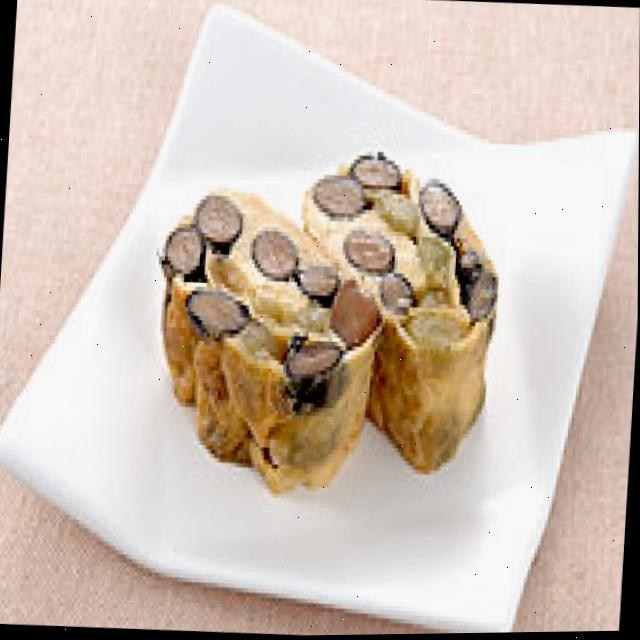鸡蛋料理: (136, 114, 517, 511)
